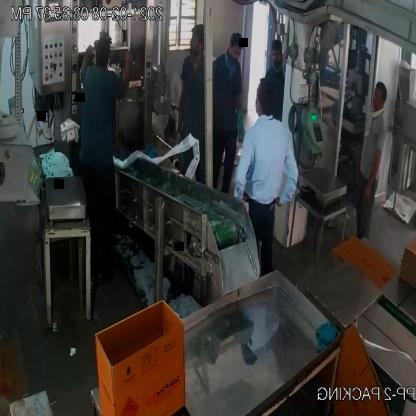glove: (234, 79, 246, 148)
no_glove: (273, 143, 298, 218), (229, 127, 251, 206), (362, 136, 385, 210), (170, 72, 187, 150), (72, 36, 96, 80), (116, 47, 133, 101)
